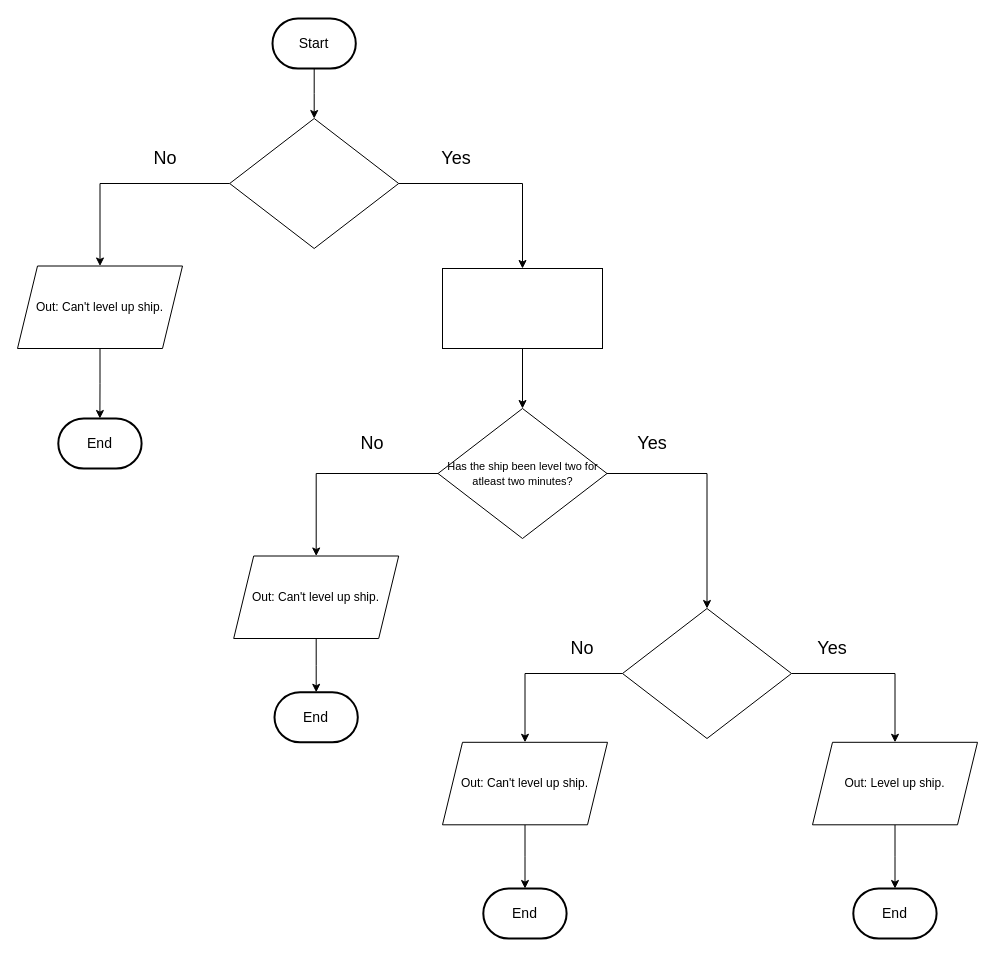
The diagram is 995 pixels wide and 956 high, and some of its shapes have lost their labels. The shapes that lost their labels are listed below. From the top down, each one's centre as x and y in pixels, then its label:
At point 314,183: "Is the ship level two?".
At point 522,308: "Compute how long has it been that level.".
At point 707,673: "Does the ship have 200 points?".
